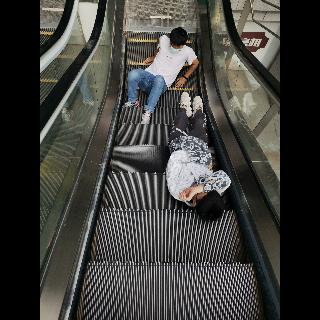anomaly: (166, 89, 236, 223), (123, 24, 201, 121)
